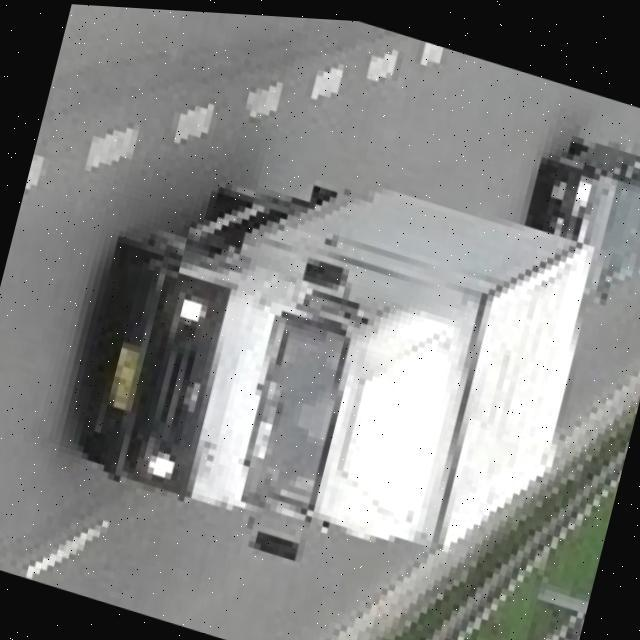truck: (52, 109, 621, 636)
